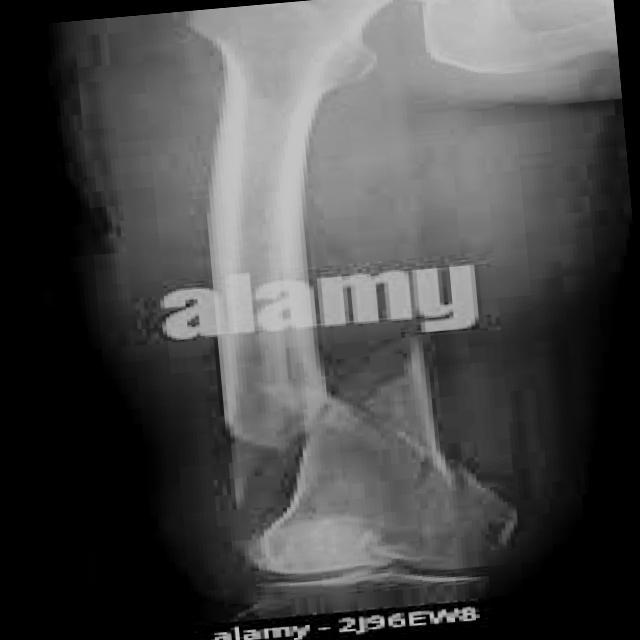Comminuted Fracture: (214, 416, 334, 548)
